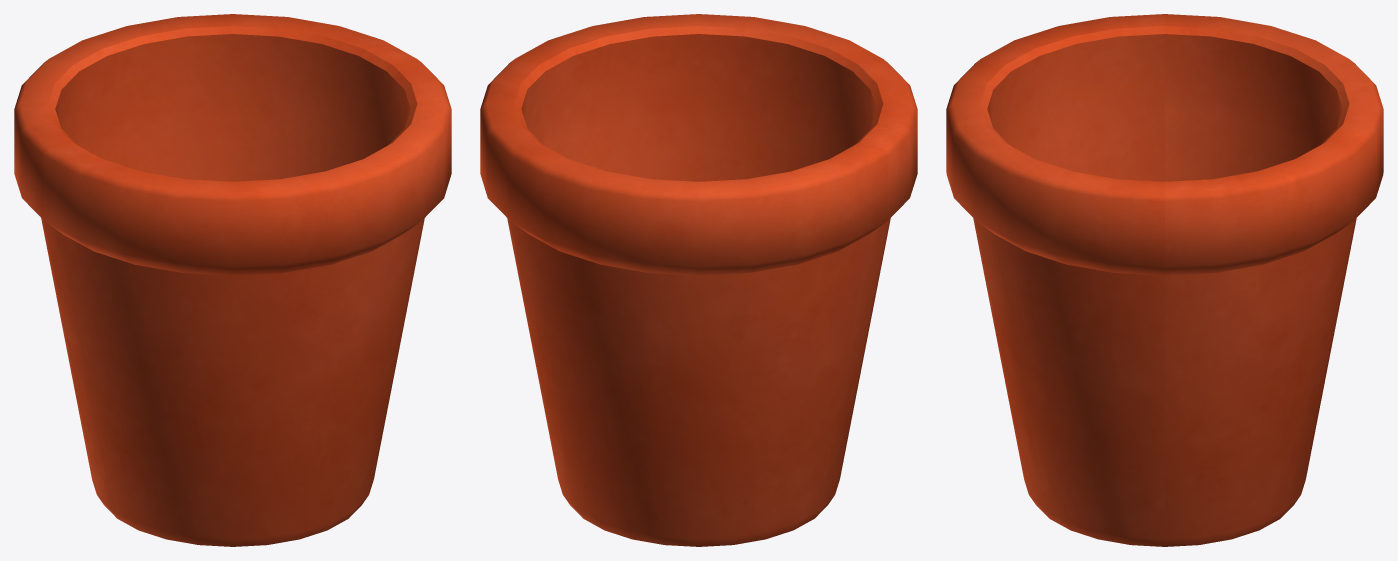
Rendered from plant-pod -02.fbx.
3 views of the same model, side by side, from view 1: azimuth 30°, elevation 25°; view 2: azimuth 150°, elevation 25°; view 3: azimuth 270°, elevation 25° (orthographic).
Visible parts, largest first — view 1: plant_pod_02_plastic_03_0; view 2: plant_pod_02_plastic_03_0; view 3: plant_pod_02_plastic_03_0.
Part boxes in pixels (x1=…): plant_pod_02_plastic_03_0: x1=14, y1=14, x2=451, y2=546; plant_pod_02_plastic_03_0: x1=480, y1=14, x2=917, y2=546; plant_pod_02_plastic_03_0: x1=946, y1=14, x2=1383, y2=546.
Bounding box in the file's own units: 4.26 × 4.21 × 4.26.
